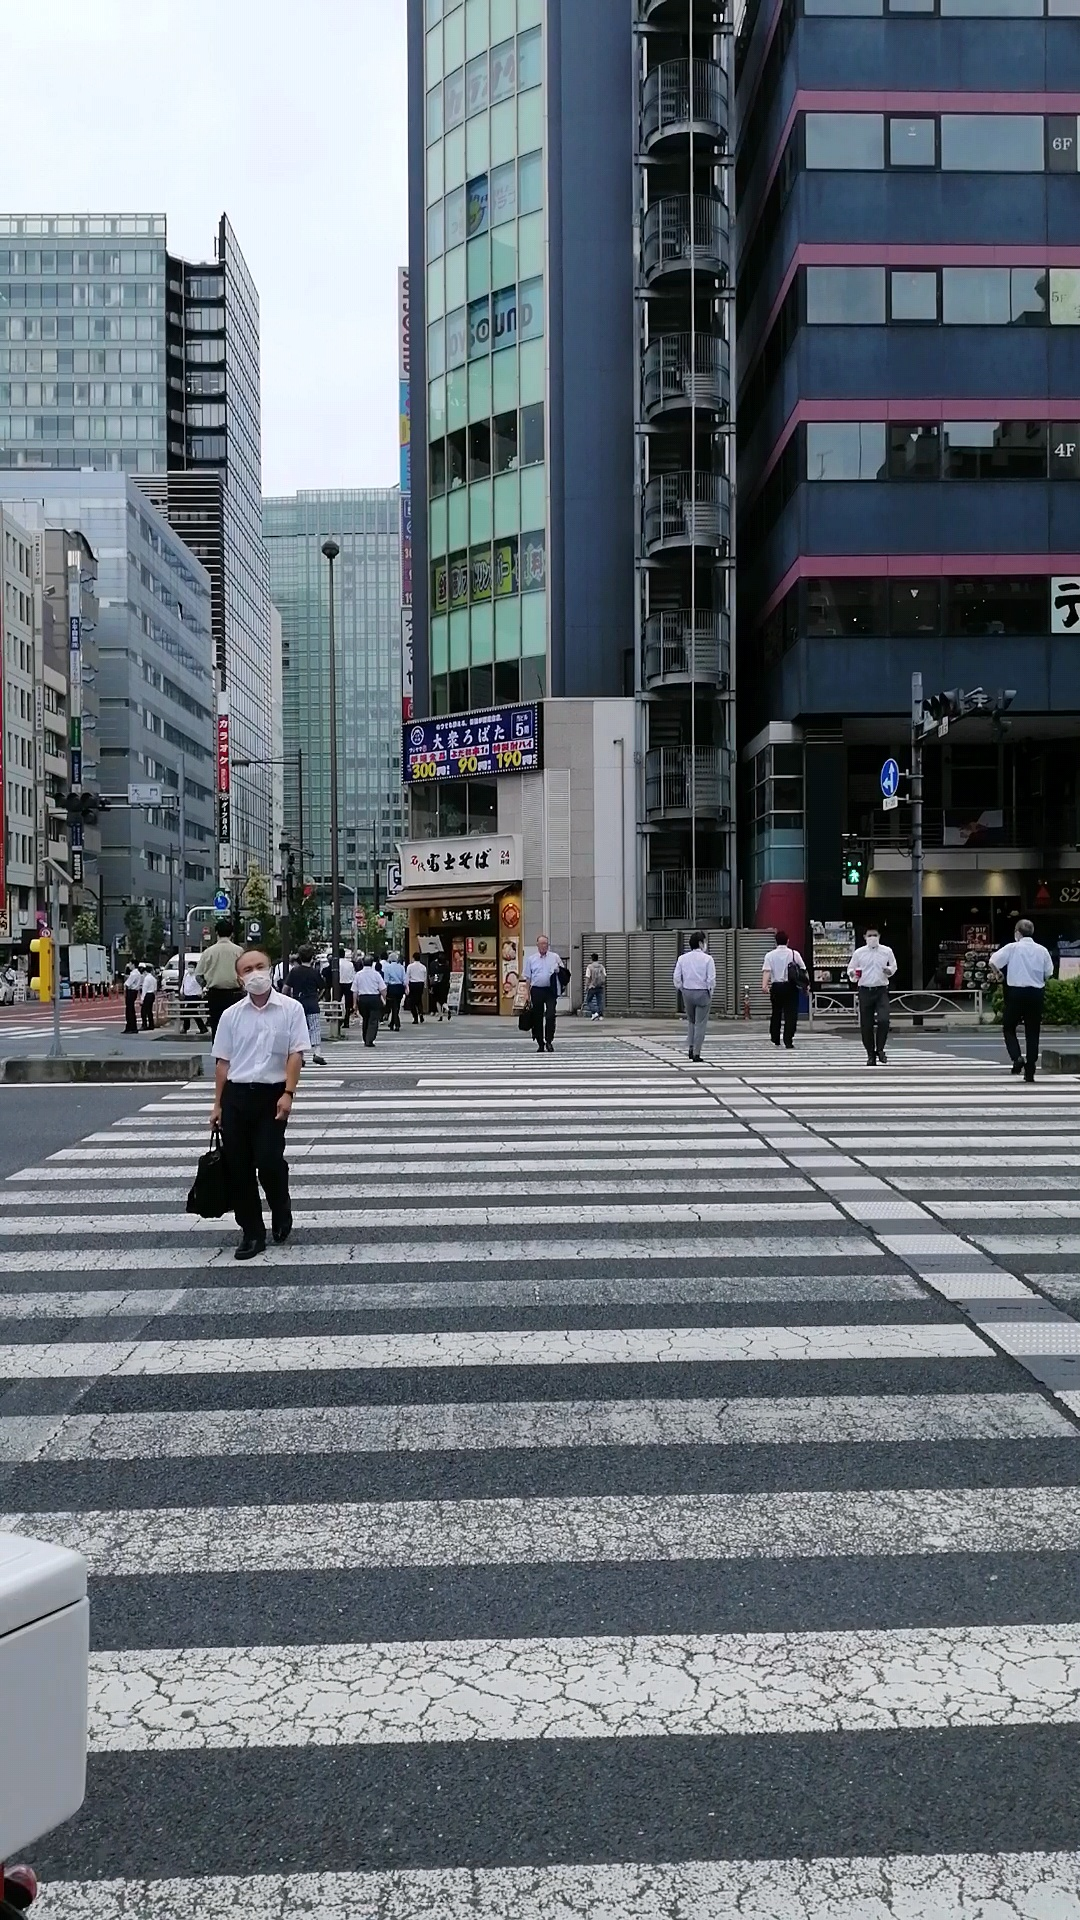green: (843, 848, 866, 886)
